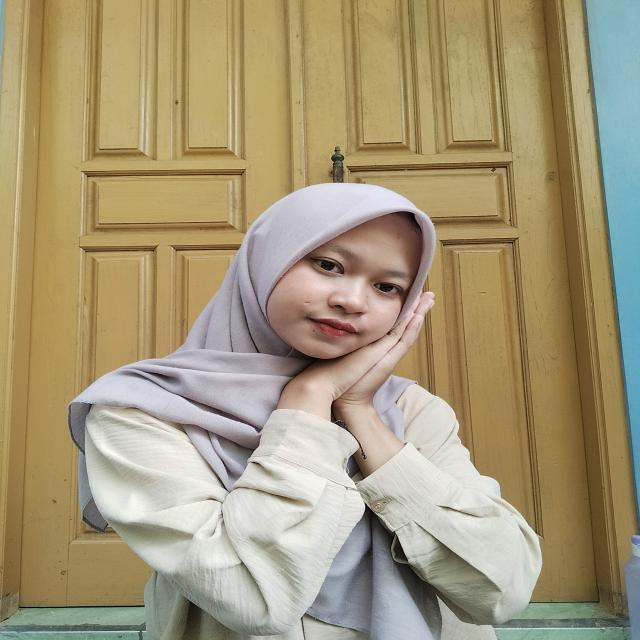tidur: (273, 292, 443, 454)
